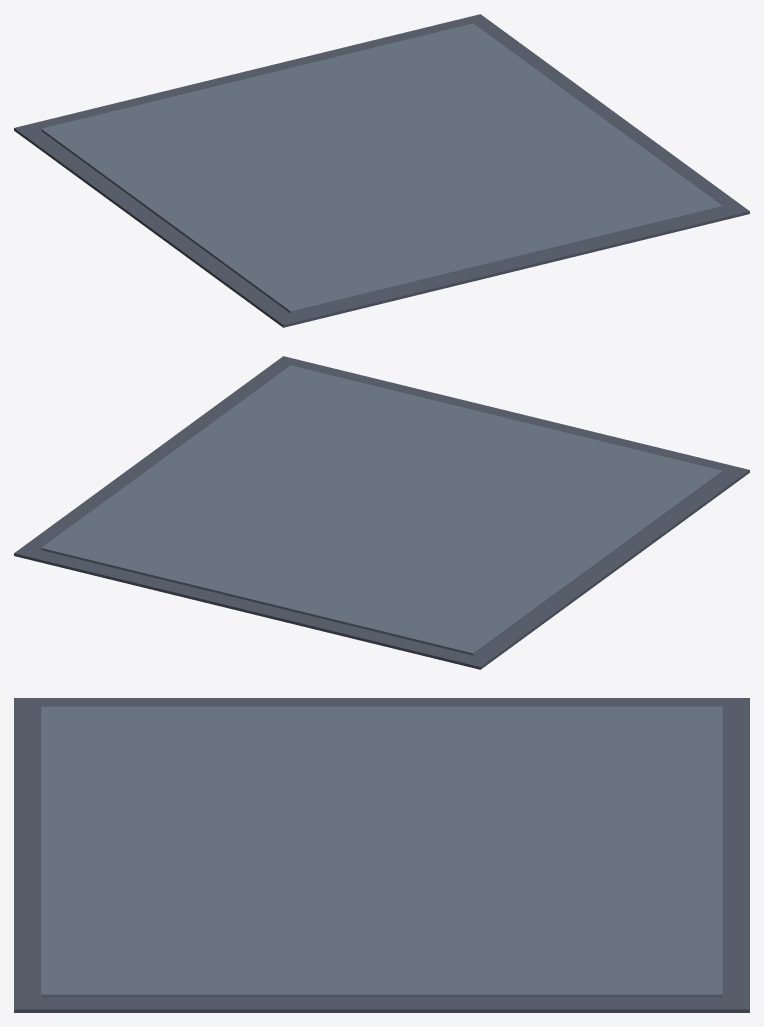
The model's file is carpet-runner.glb.
3 renders of one model, top to bottom at view 1: azimuth 30°, elevation 25°; view 2: azimuth 150°, elevation 25°; view 3: azimuth 270°, elevation 25°, orthographic. The views are drawn at different scales.
Visible parts, largest first — view 1: CarpetRunner; view 2: CarpetRunner; view 3: CarpetRunner.
Boxes of the visible parts, <box> form: CarpetRunner: <box>14,14,749,327</box>; CarpetRunner: <box>14,356,749,669</box>; CarpetRunner: <box>14,698,749,1012</box>.
Bounding box in the file's own units: 1.08 × 0.012 × 1.08.
